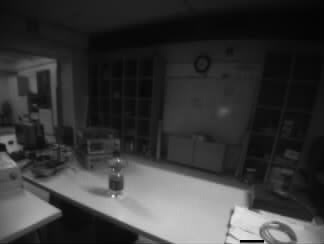Bottle: (109, 154, 124, 196)
